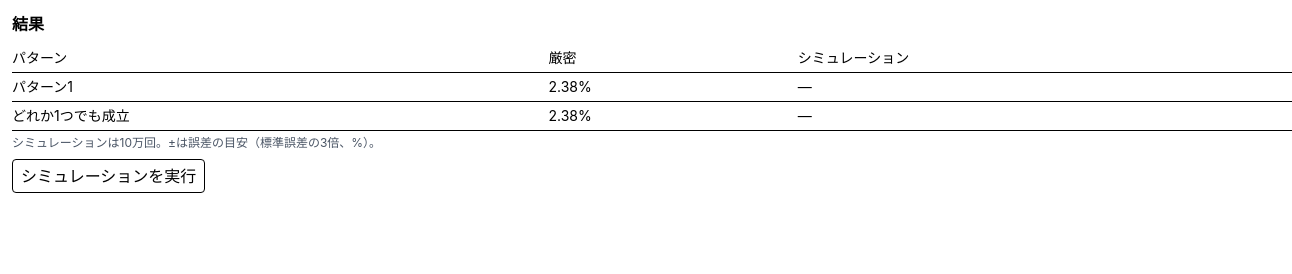
Scenario: 食い違うと警告が出る
The width and height of the screenshot is (1292, 274).
Click the button "シミュレーションを実行" at (109, 176), box [12,159,205,193]
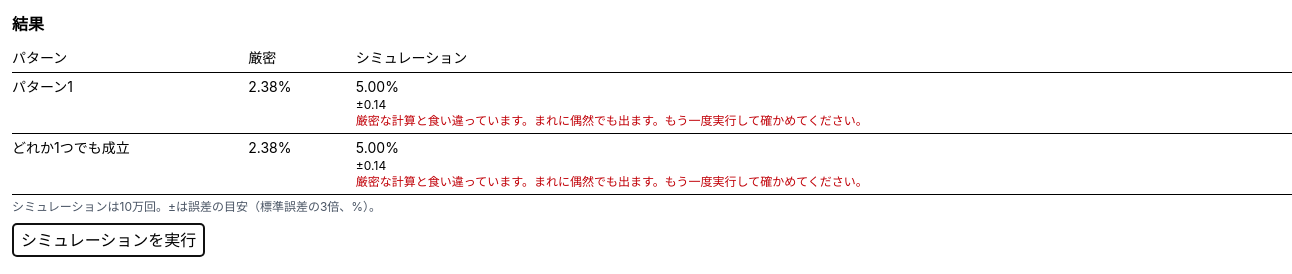
Expected: the 1st message "厳密な計算と食い違っています。まれに偶然でも出ます。もう一度実行して確かめてください。" is shown, [356,113,868,128]
